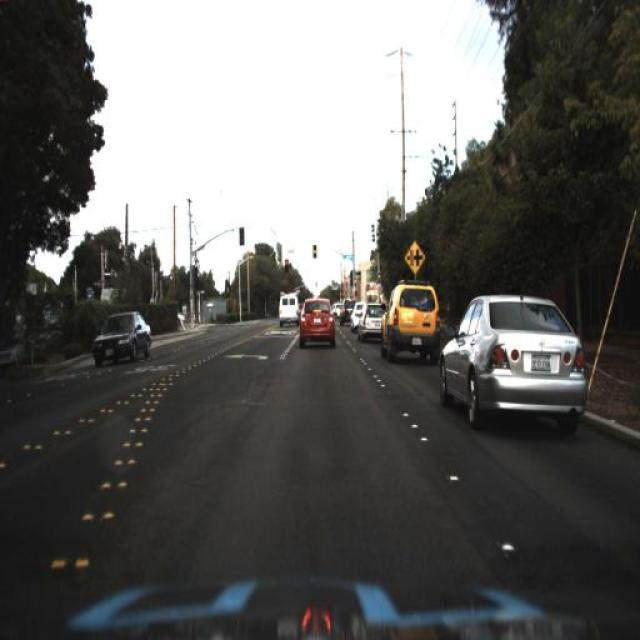car: (434, 281, 590, 435), (384, 279, 448, 362), (89, 297, 157, 373), (291, 289, 344, 365), (357, 296, 382, 344), (273, 286, 299, 332), (336, 294, 356, 328)
trafficLight-Green: (311, 237, 320, 269), (281, 252, 291, 276)
